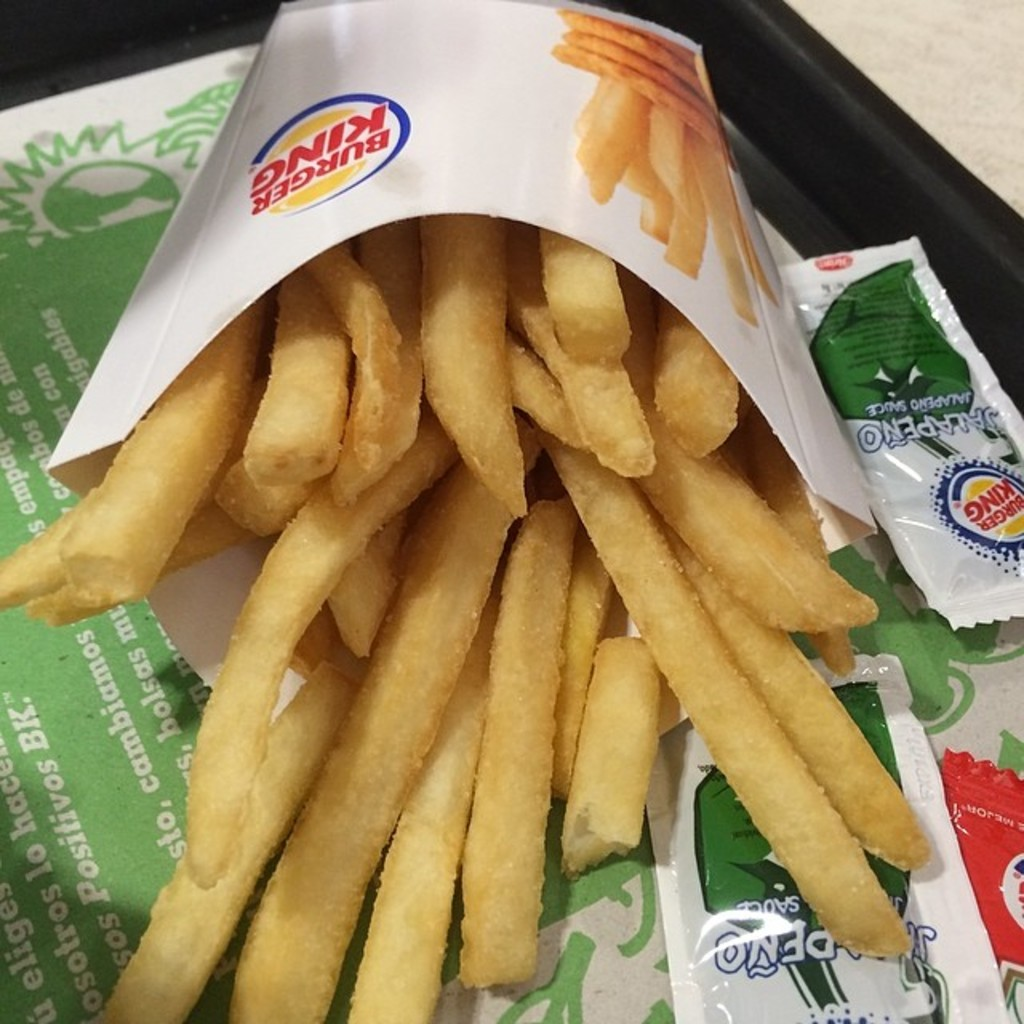French fries: (33, 126, 942, 1001), (545, 11, 774, 316)
